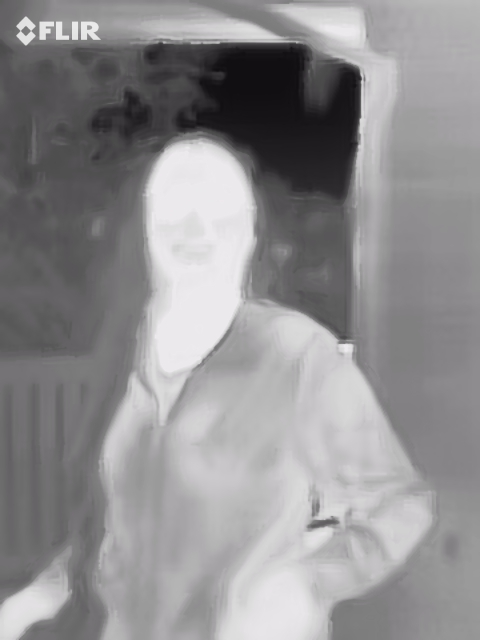head: (137, 131, 261, 281)
